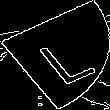L_NW: (19, 25, 91, 85)
